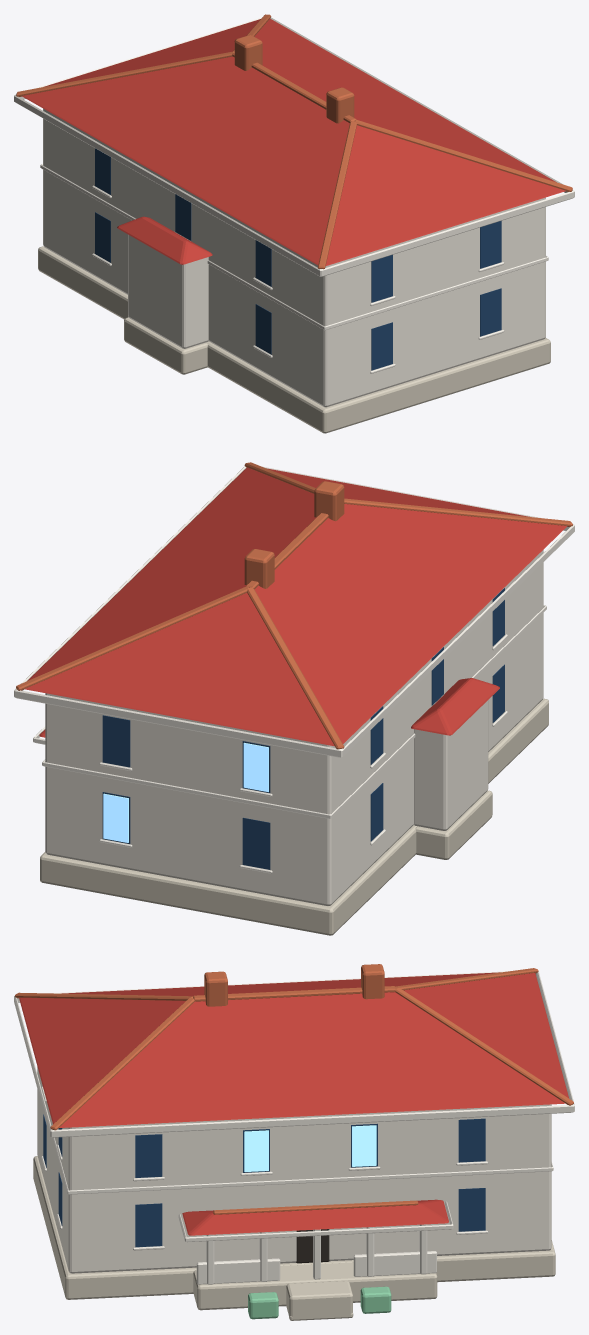
The model's file is 540-presidio-blvd.optimized.glb.
3 renders of one model, top to bottom at view 1: azimuth 30°, elevation 25°; view 2: azimuth 150°, elevation 25°; view 3: azimuth 270°, elevation 25°, orthographic. The views are drawn at different scales.
Parts seen in each view (by area): view 1: grp_Toy_red, grp_Toy_cream, grp_Toy_stone, grp_Toy_trim, grp_Toy_glass, grp_Toy_brick; view 2: grp_Toy_red, grp_Toy_cream, grp_Toy_stone, grp_Toy_trim, grp_Toy_brick, grp_Toy_glass, grp_Toy_glass_Glow; view 3: grp_Toy_red, grp_Toy_cream, grp_Toy_trim, grp_Toy_stone, grp_Toy_brick, grp_Toy_glass, grp_Toy_glass_Glow, grp_Toy_mint, front_door.
Boxes of the visible parts, box(x1,y1,x2,y2) form: grp_Toy_red: box(22, 18, 565, 265); grp_Toy_cream: box(43, 108, 545, 407); grp_Toy_stone: box(38, 246, 550, 433); grp_Toy_trim: box(14, 17, 574, 373); grp_Toy_glass: box(95, 148, 501, 370); grp_Toy_brick: box(16, 14, 572, 269); grp_Toy_red: box(24, 467, 566, 746); grp_Toy_cream: box(45, 550, 543, 905); grp_Toy_stone: box(40, 698, 548, 935); grp_Toy_trim: box(14, 466, 574, 873); grp_Toy_brick: box(16, 462, 572, 749); grp_Toy_glass: box(102, 588, 504, 869); grp_Toy_glass_Glow: box(103, 742, 268, 842); grp_Toy_red: box(19, 972, 568, 1235); grp_Toy_cream: box(37, 1067, 551, 1273); grp_Toy_trim: box(14, 971, 574, 1284); grp_Toy_stone: box(33, 1156, 555, 1320); grp_Toy_brick: box(15, 964, 573, 1214); grp_Toy_glass: box(43, 1114, 485, 1247); grp_Toy_glass_Glow: box(244, 1125, 376, 1171); grp_Toy_mint: box(248, 1286, 391, 1319); front_door: box(296, 1229, 329, 1263).
Size of the model in its own units: 16.66 by 11.5 by 22.76.
